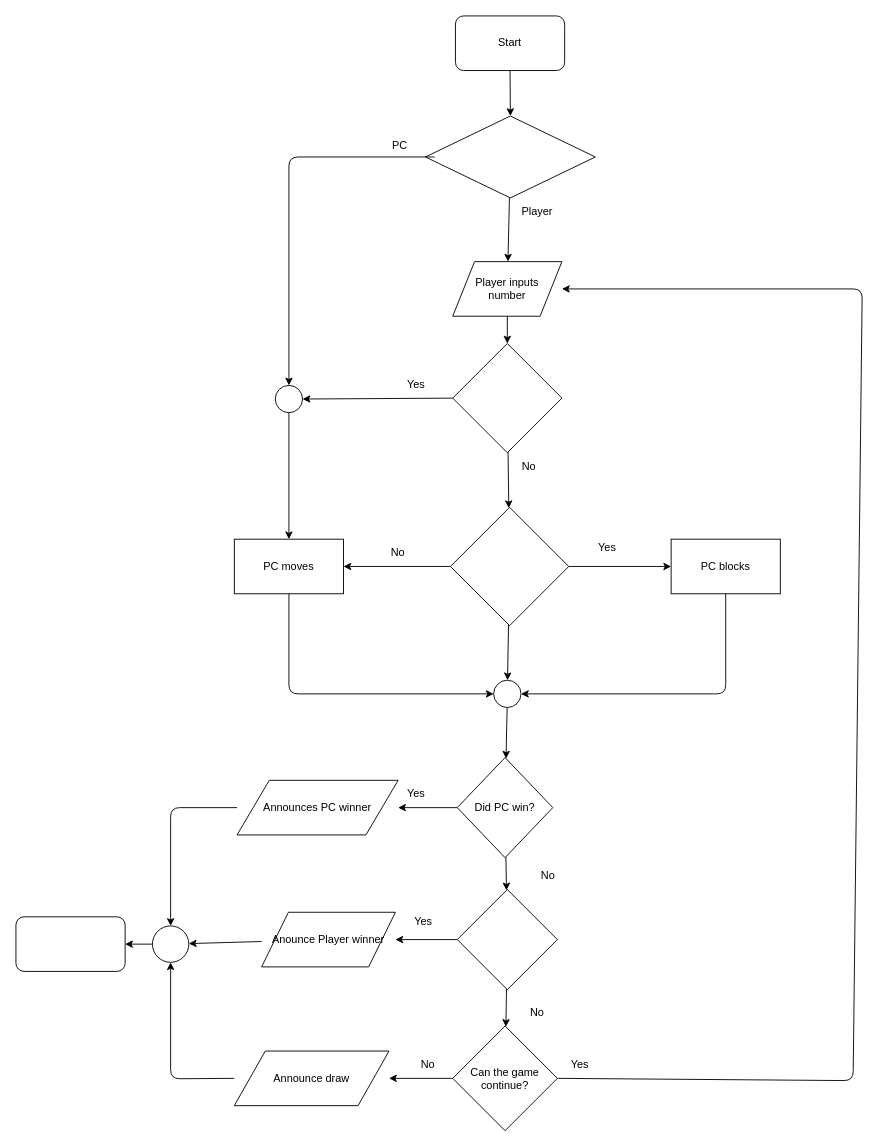
This 885x1147 diagram has some shape labels left out. Each missing label, with the box of its shape:
Can PC win next time?: (452, 343, 562, 453)
Can player win next?: (450, 506, 569, 626)
Choose who starts: PC or player: (425, 115, 595, 198)
Did player win?: (456, 889, 557, 990)
END: (15, 916, 125, 971)
